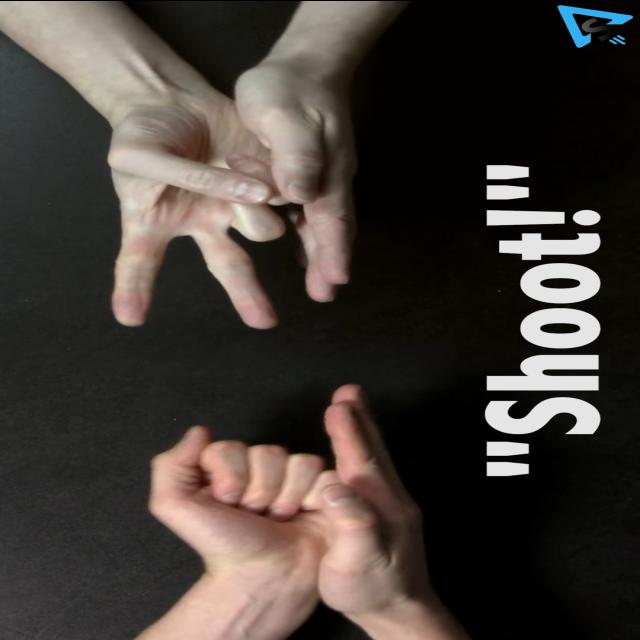Rock: (145, 422, 344, 566)
Scissors: (102, 84, 294, 328)
